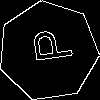P: (23, 26, 73, 65)
